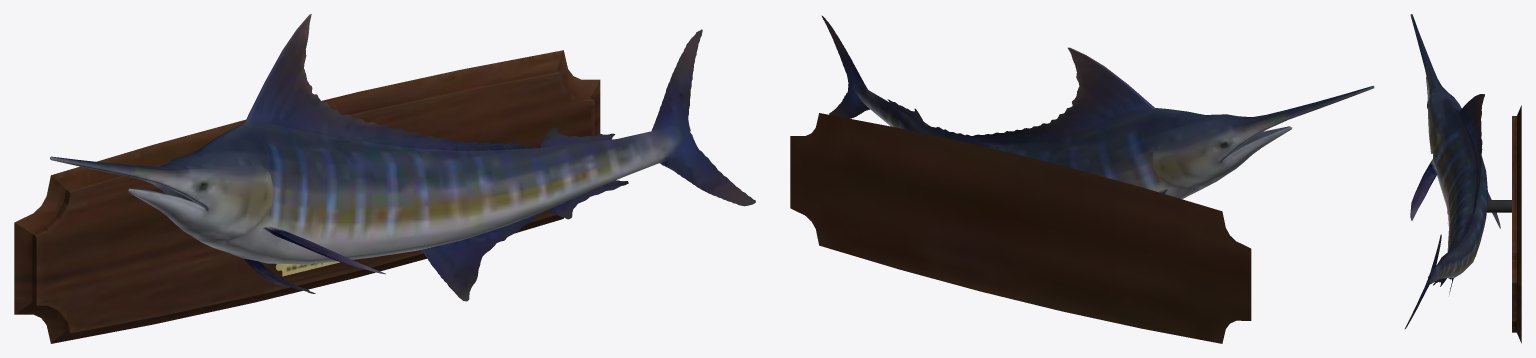
The picture shows the model from 3 angles, left to right: view 1: azimuth 30°, elevation 25°; view 2: azimuth 150°, elevation 25°; view 3: azimuth 270°, elevation 25°; orthographic projection. The views are drawn at different scales.
Bounding box in the file's own units: 19.22 × 7.99 × 4.9.
Materials: 2 (2 with a texture image).
